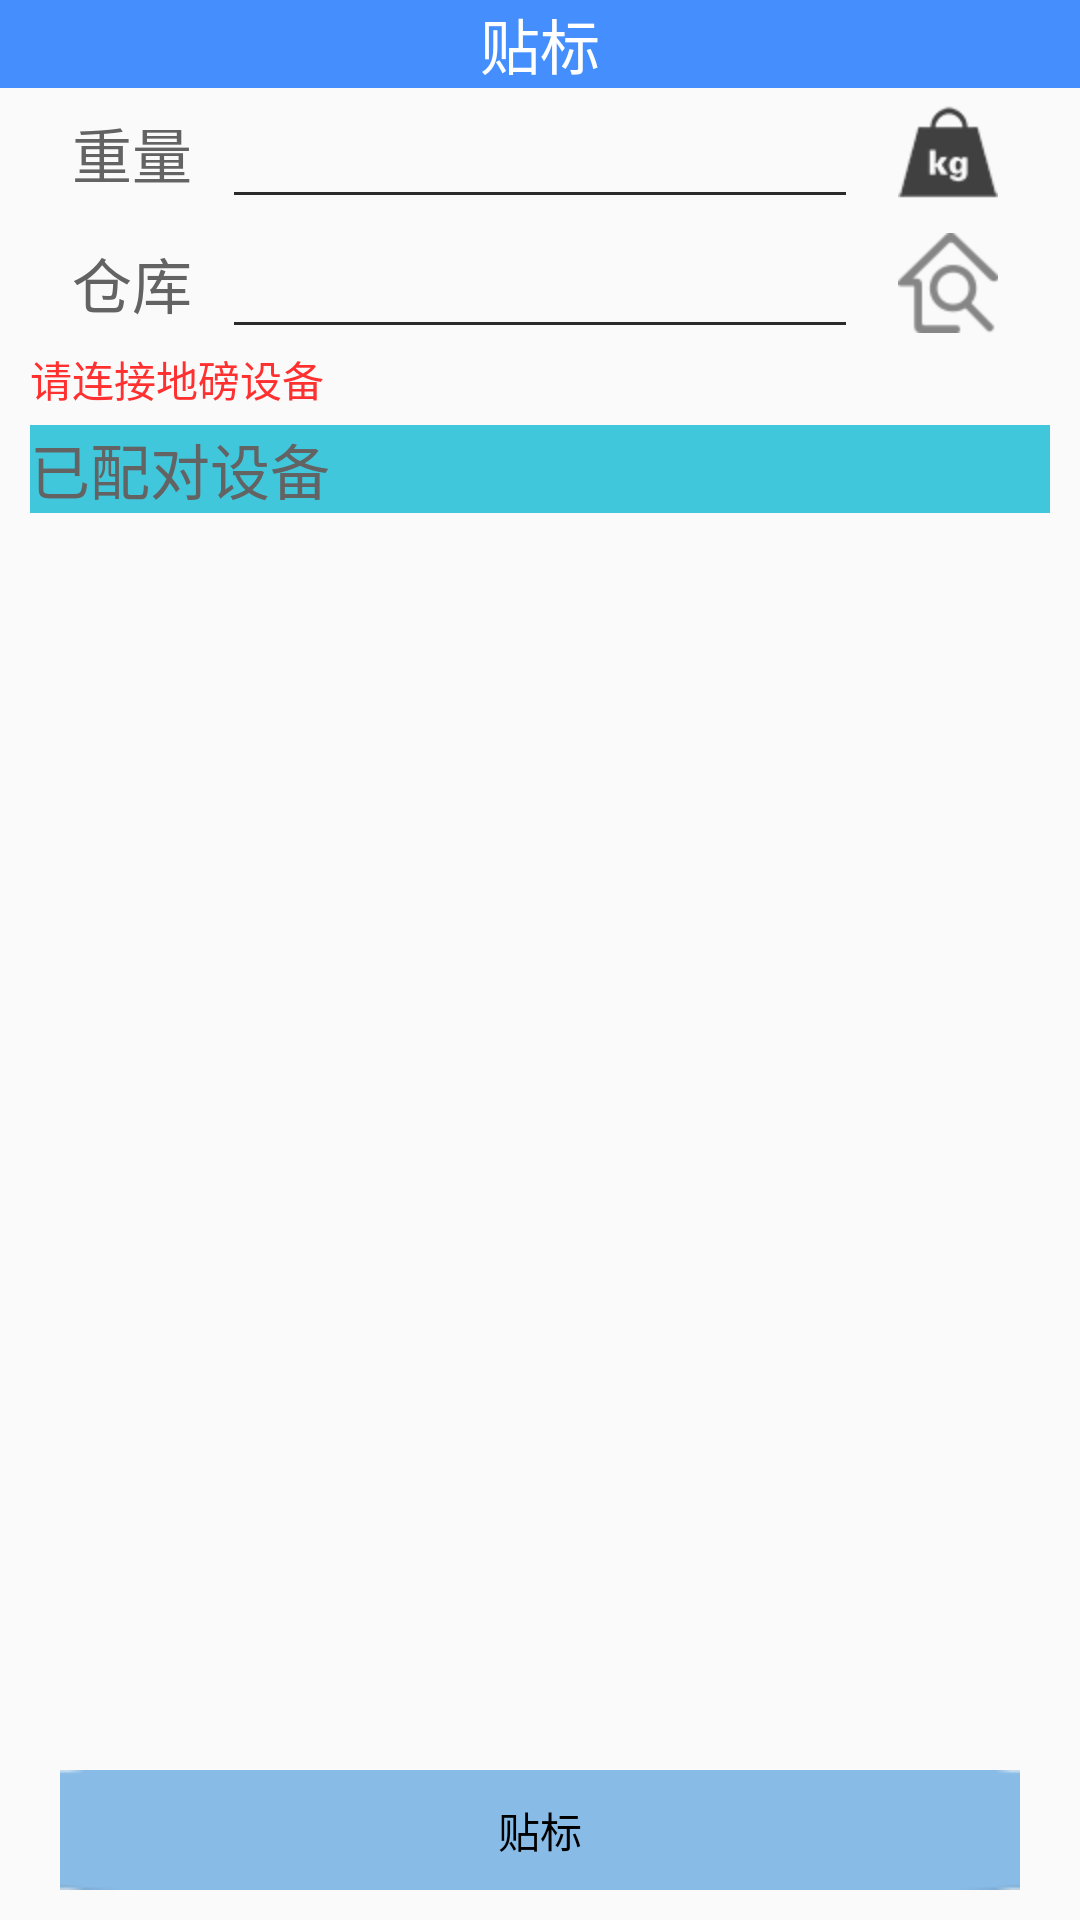

Point at icon controls on the screen. Image size 1080x1920, points as point (x, y).
weight: point (948, 152)
